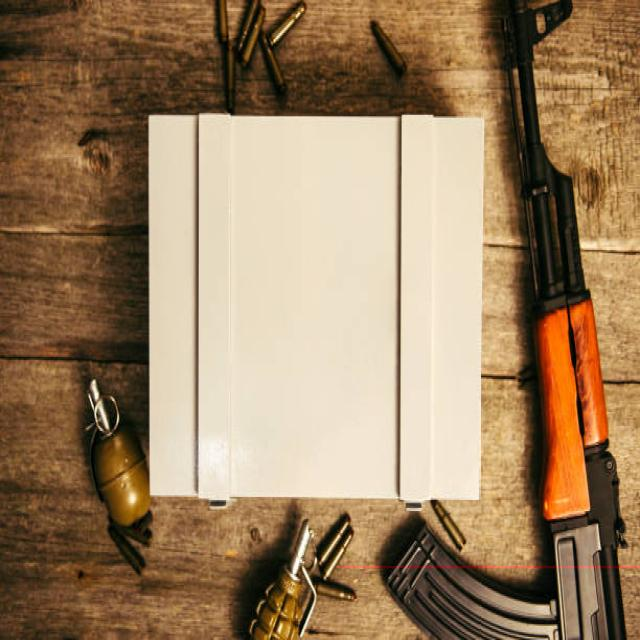grenade: (83, 376, 155, 528), (246, 518, 320, 640)
